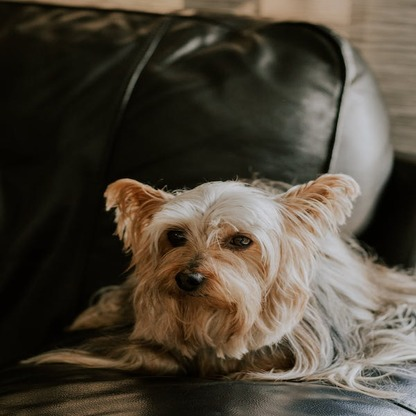yorkshire: (101, 169, 416, 385)
